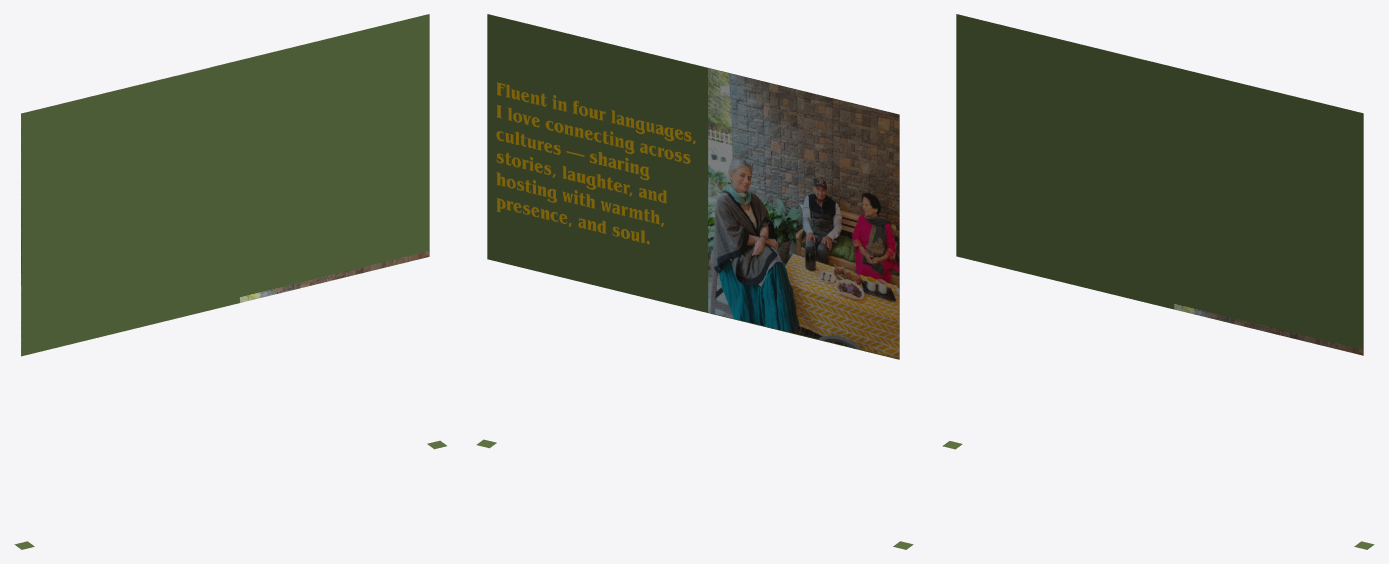
Rendered from slide4.gltf.
3 renders of one model, left to right at view 1: azimuth 30°, elevation 25°; view 2: azimuth 150°, elevation 25°; view 3: azimuth 330°, elevation 25°, orthographic.
Parts seen in each view (by area): view 1: slide4; view 2: slide4; view 3: slide4.
Part boxes in pixels (box(x1,y1,x2,y2)): slide4: box(14, 14, 446, 549); slide4: box(476, 14, 913, 549); slide4: box(942, 14, 1374, 549).
Bounding box in the file's own units: 2.4 × 2.31 × 0.0731.
1 material, 1 textured.
